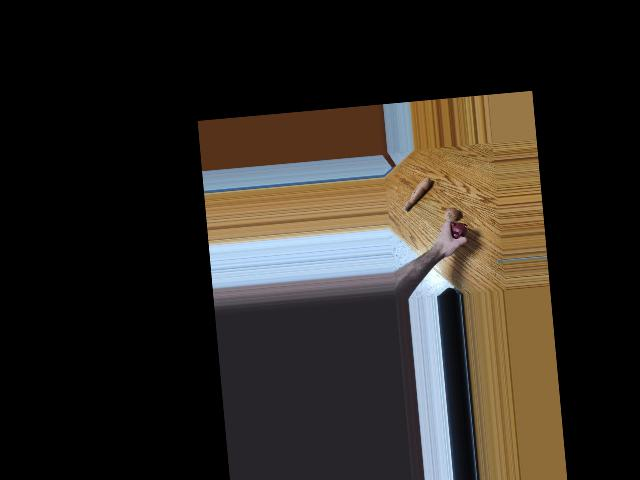onion: (443, 206, 460, 224)
